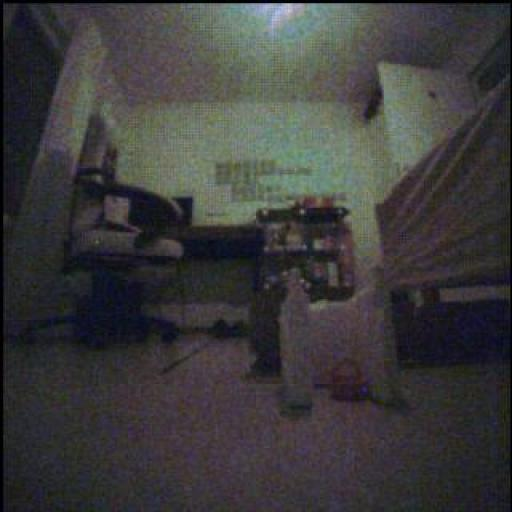basket: (332, 360, 369, 403)
